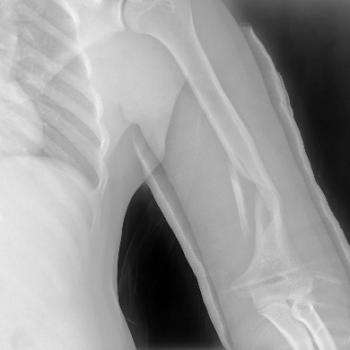Fracture: (227, 156, 285, 240)
